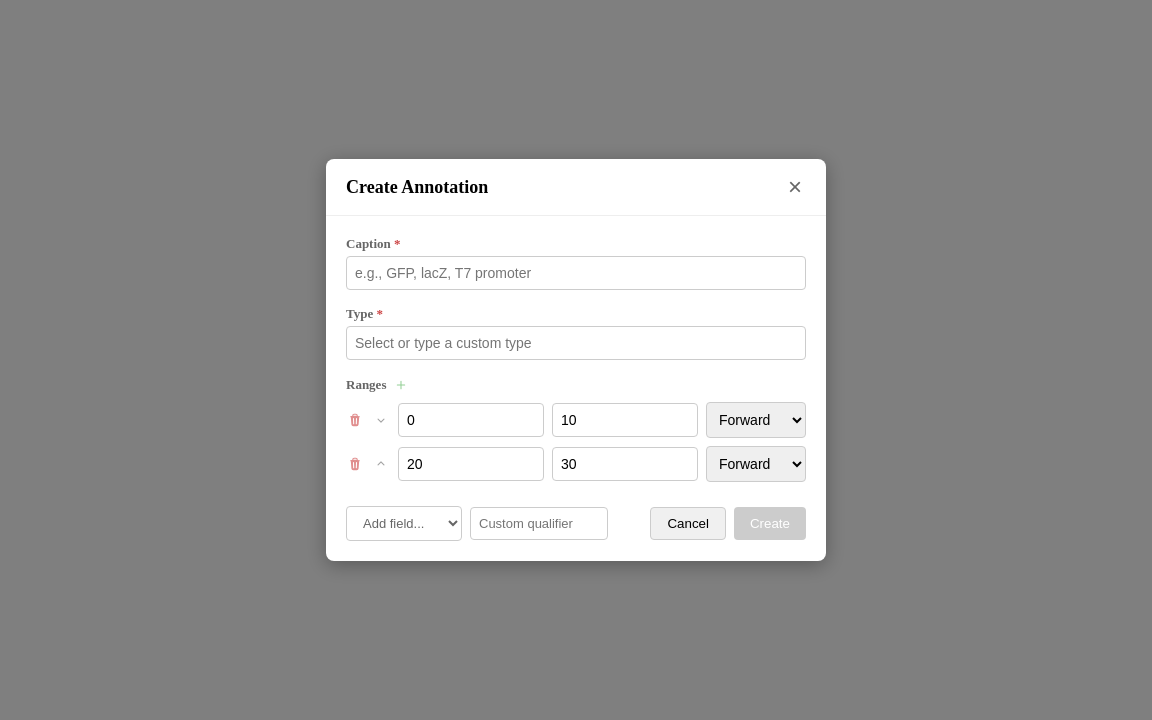
Test: AnnotationModal › ranges section › removes range when trash clicked
This screenshot has width=1152, height=720.
Expected: the number of elements with class "range-row" is 2, [346, 402, 806, 438]; [346, 446, 806, 482]
What coordinates should you click on to do the following:
click the 1st button with class "btn-remove-range"
I would click on:
 (355, 420)
Its box is [346, 411, 364, 429].
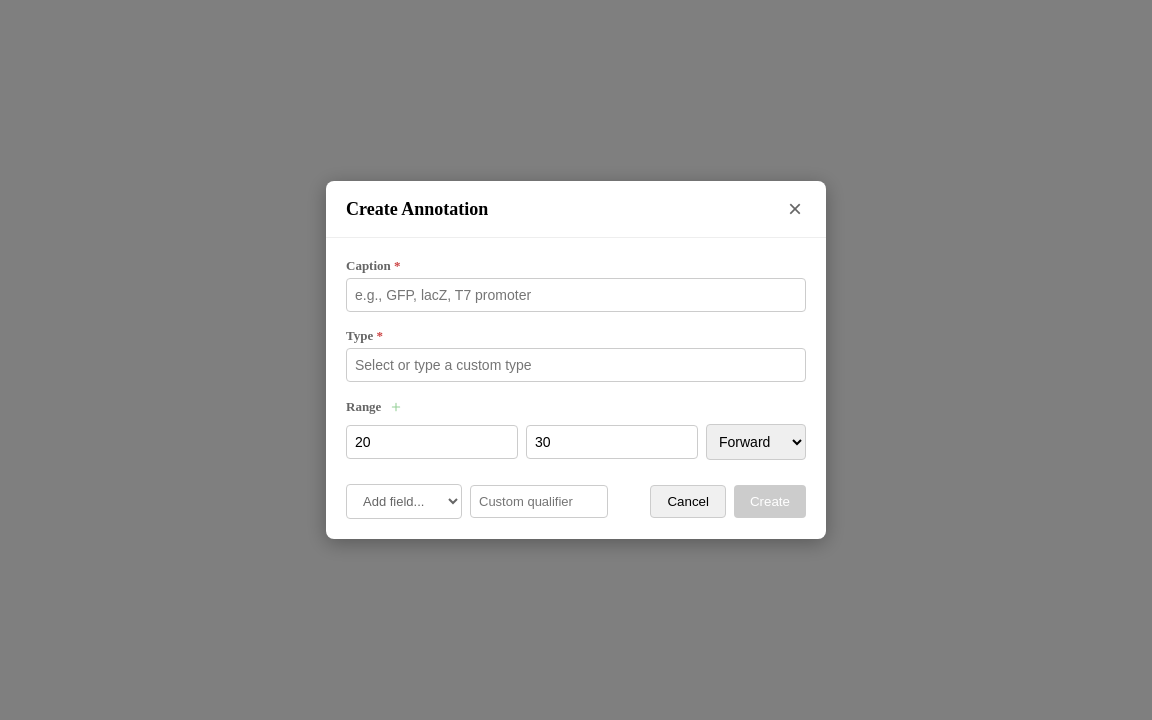
Now the number of elements with class "range-row" is 1, box [346, 424, 806, 460]
Now the number field with class "range-start" holds "20", box [346, 425, 518, 459]
